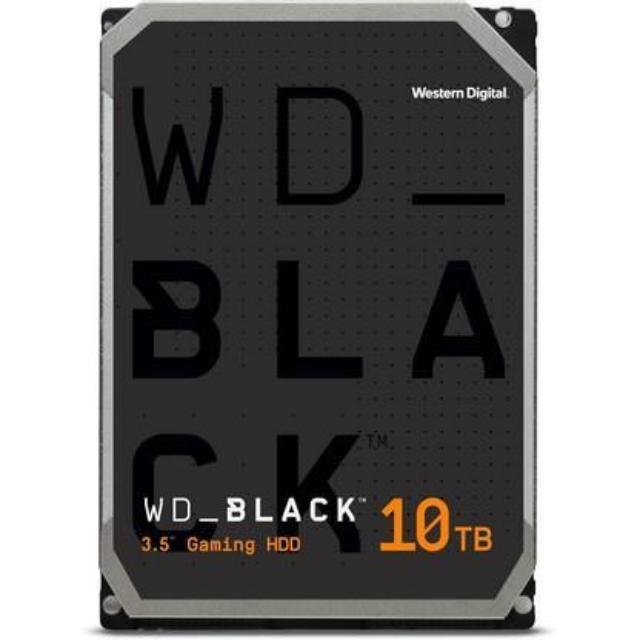DISK: (99, 0, 538, 640)
